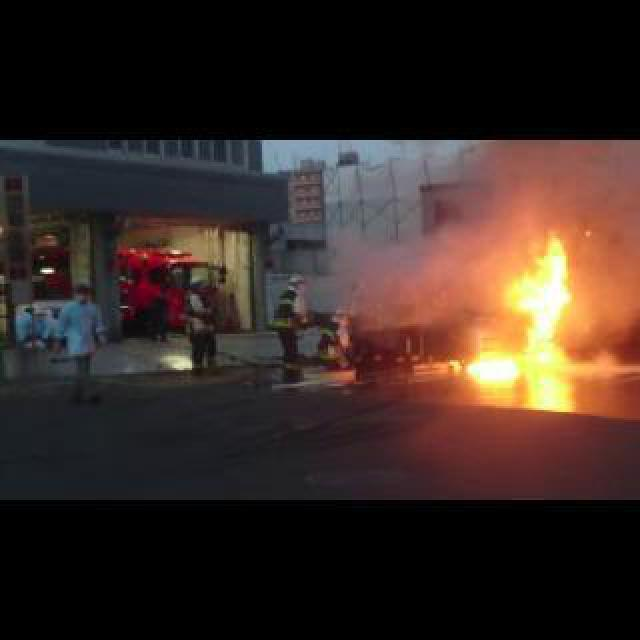Fire: (508, 234, 574, 344), (450, 350, 520, 382)
Smoke: (308, 162, 520, 330), (446, 140, 636, 242)
